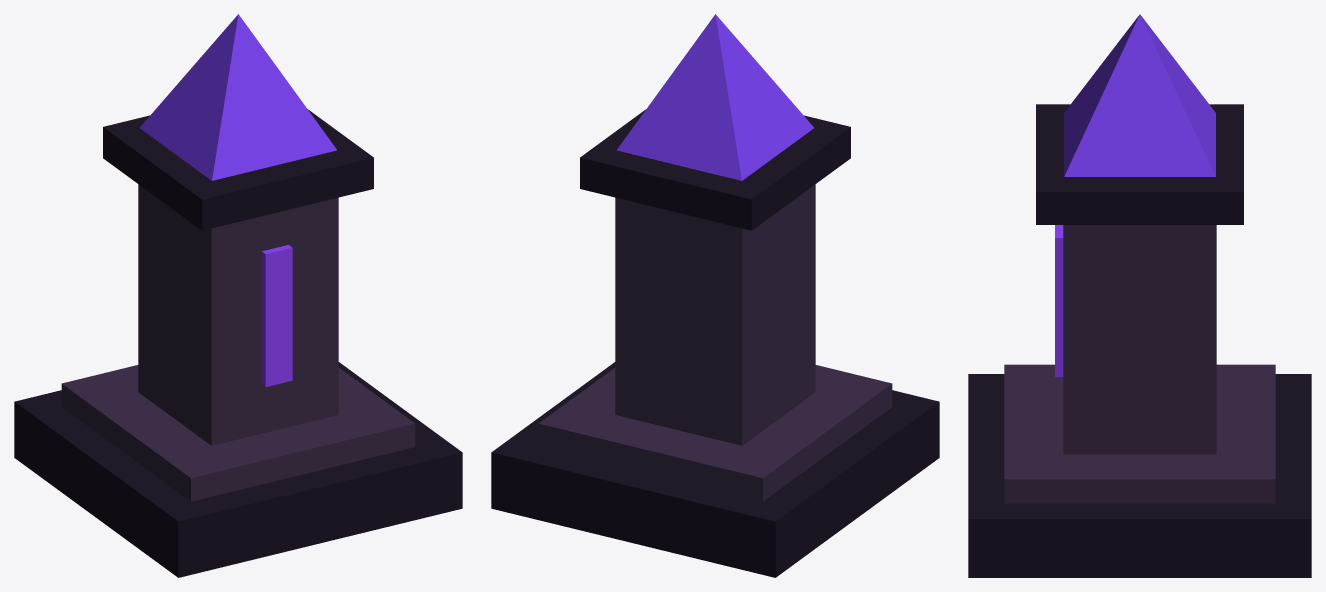
File: rune_shrine.obj
The picture shows the model from 3 angles, left to right: view 1: azimuth 30°, elevation 25°; view 2: azimuth 150°, elevation 25°; view 3: azimuth 270°, elevation 25°; orthographic projection. The views are drawn at different scales.
Parts seen in each view (by area): view 1: RuneShrine; view 2: RuneShrine; view 3: RuneShrine.
Part boxes in pixels (bbox=[...]): RuneShrine: bbox=[14, 14, 462, 577]; RuneShrine: bbox=[491, 14, 939, 577]; RuneShrine: bbox=[968, 14, 1311, 577].
Bounding box in the file's own units: 1.9 × 3 × 1.9.
